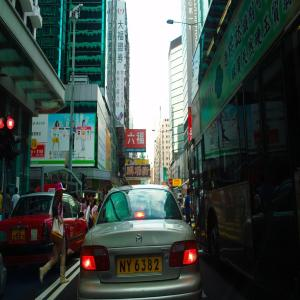Vehicle-registration-plate: (107, 237, 170, 285), (13, 229, 26, 242)
